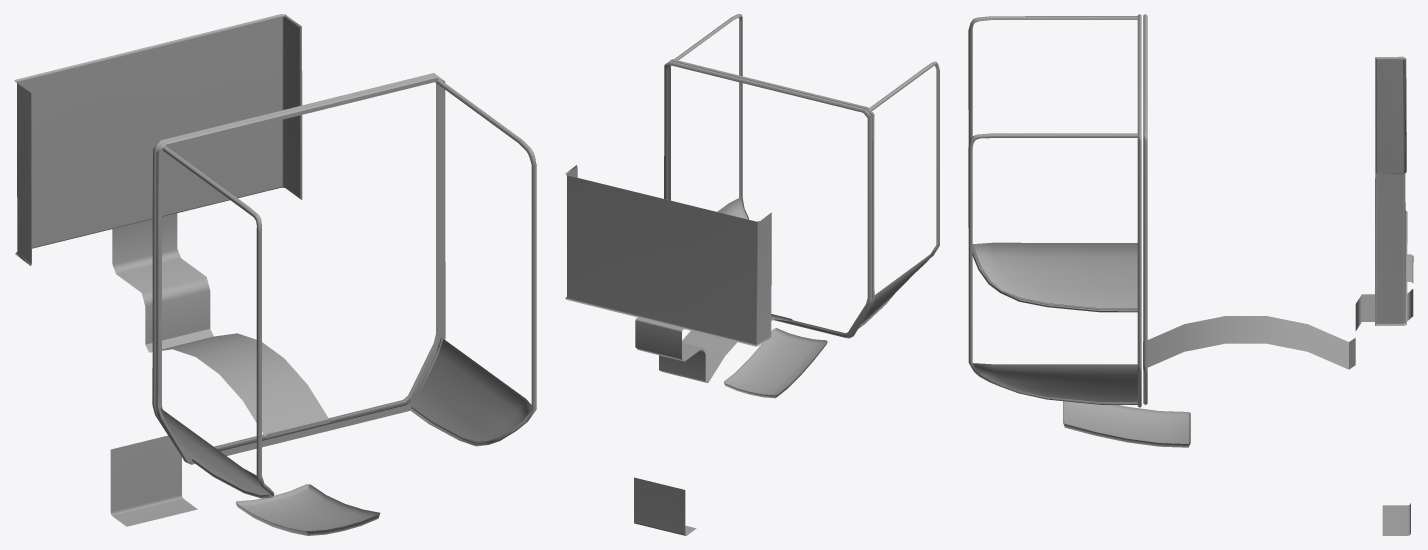
Rendered from MeshCoffeeMachine_6_0_GeomSubset_1.obj.
3 renders of one model, left to right at view 1: azimuth 30°, elevation 25°; view 2: azimuth 150°, elevation 25°; view 3: azimuth 270°, elevation 25°, orthographic. The views are drawn at different scales.
Visible parts, largest first — view 1: MeshCoffeeMachine_6_0_GeomSubset_1; view 2: MeshCoffeeMachine_6_0_GeomSubset_1; view 3: MeshCoffeeMachine_6_0_GeomSubset_1.
Boxes of the visible parts, x1=… form: MeshCoffeeMachine_6_0_GeomSubset_1: x1=14, y1=14, x2=536, y2=535; MeshCoffeeMachine_6_0_GeomSubset_1: x1=565, y1=14, x2=939, y2=535; MeshCoffeeMachine_6_0_GeomSubset_1: x1=968, y1=14, x2=1413, y2=535.
Size of the model in its own units: 0.2872 by 0.4837 by 0.435.
